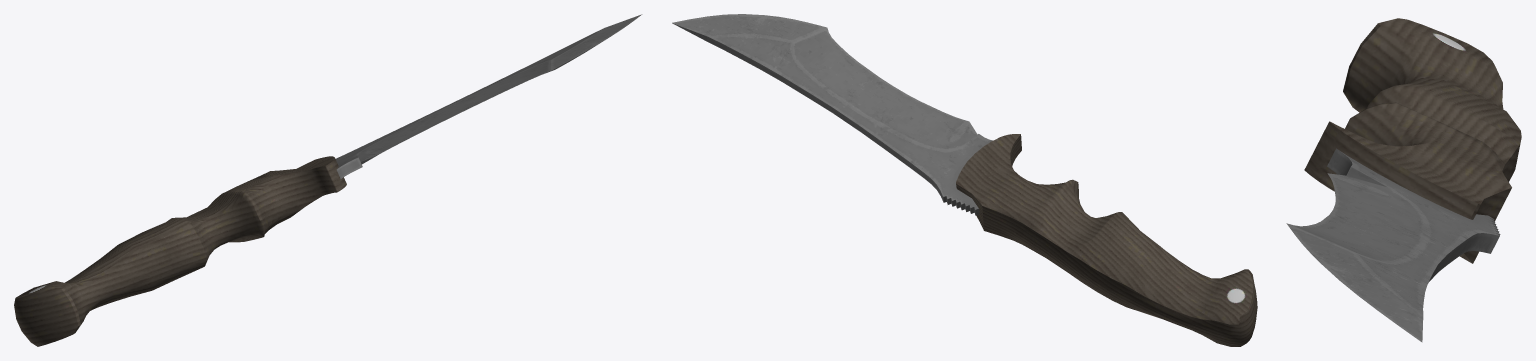
The model's file is Rampage_FP.glb.
The picture shows the model from 3 angles, left to right: view 1: azimuth 30°, elevation 25°; view 2: azimuth 150°, elevation 25°; view 3: azimuth 270°, elevation 25°; orthographic projection. The views are drawn at different scales.
Visible parts, largest first — view 1: Rampage_upd; view 2: Rampage_upd; view 3: Rampage_upd.
Part boxes in pixels (bbox=[...]): Rampage_upd: bbox=[14, 14, 642, 346]; Rampage_upd: bbox=[672, 14, 1257, 346]; Rampage_upd: bbox=[1286, 18, 1521, 342].
Bounding box in the file's own units: 0.2427 × 0.0733 × 0.0421.
Materials: 1 (1 with a texture image).
